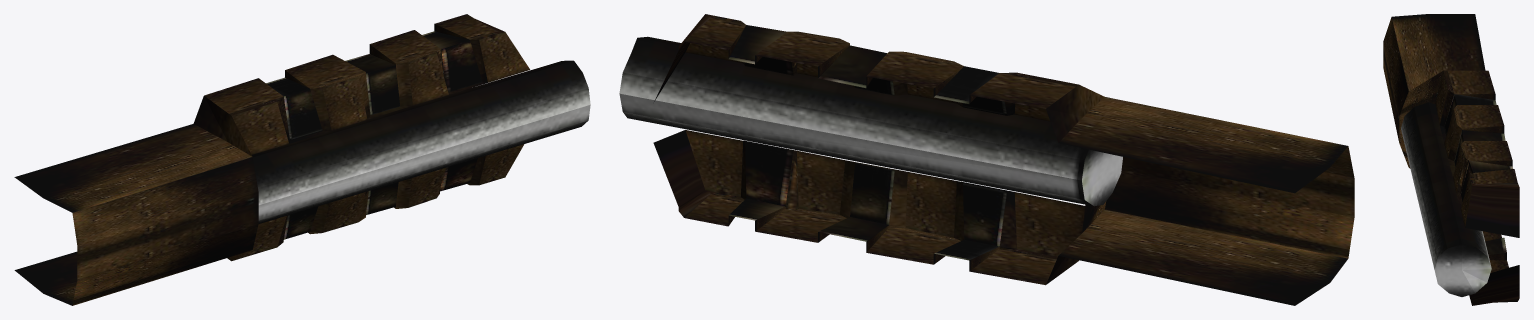
Rendered from v_shot_0.obj.
3 views of the same model, side by side, from view 1: azimuth 30°, elevation 25°; view 2: azimuth 150°, elevation 25°; view 3: azimuth 270°, elevation 25° (orthographic). The views are drawn at different scales.
Bounding box in the file's own units: 15.74 × 3.97 × 4.12.
1 material, 1 textured.
